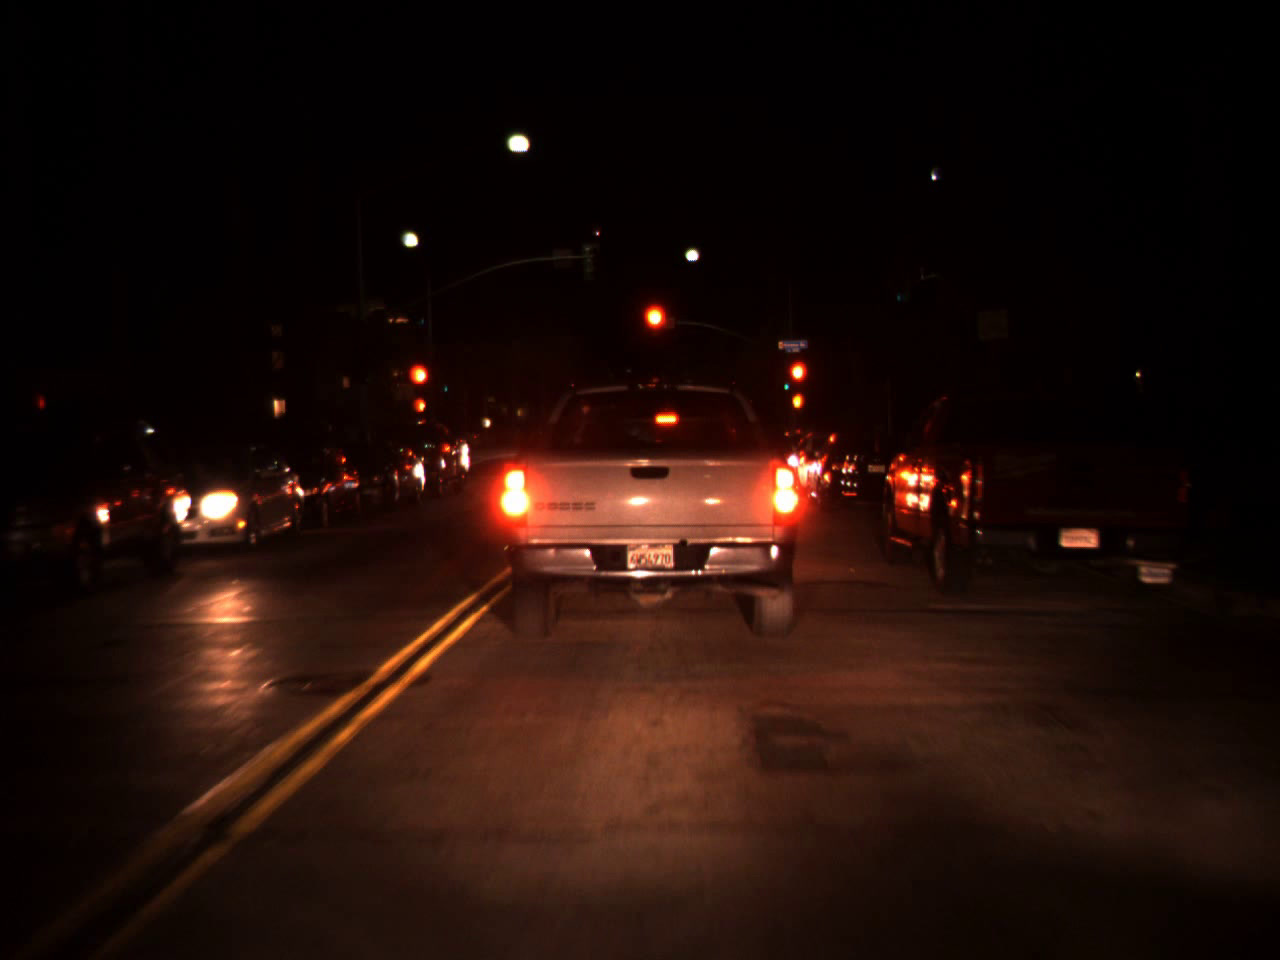stop: (640, 301, 670, 359), (786, 357, 810, 411), (406, 361, 431, 409)
